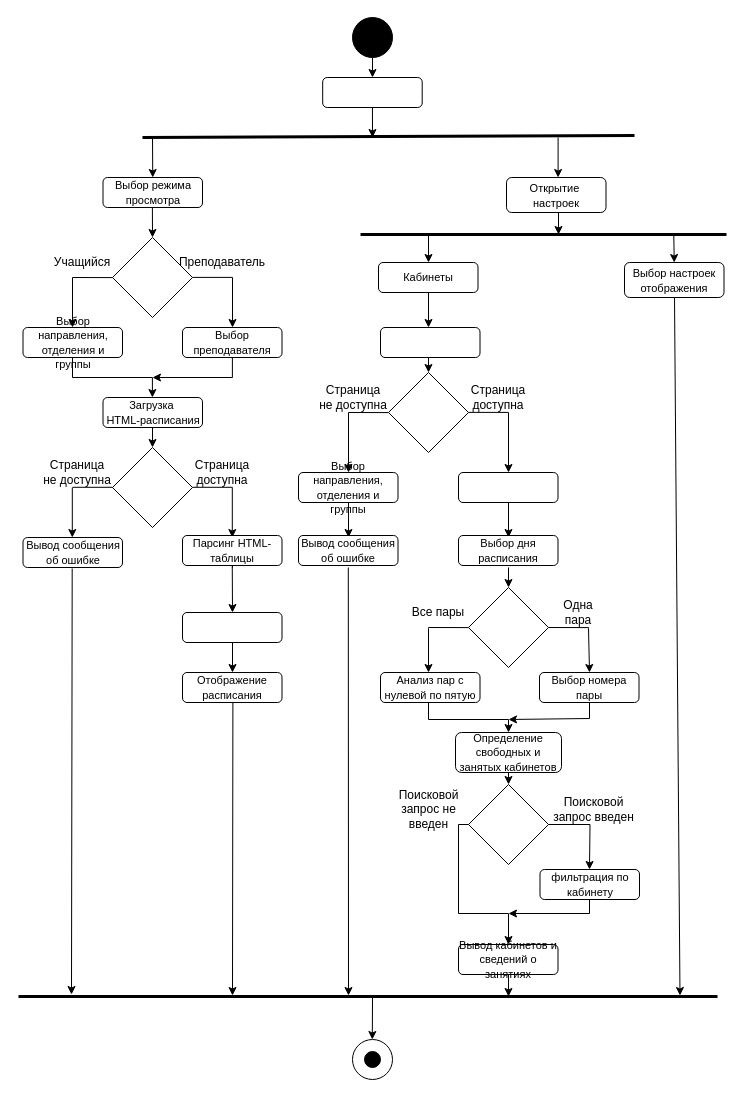
The diagram is 746 pixels wide and 1097 high, and some of its shapes have lost their labels. Each missing label, with the centre of its shape:
"Выбор раздела" belongs at point 372,92.
"Загрузка всех расписаний" belongs at point 430,342.
"Объединение занятий по дням" belongs at point 508,487.
"Фильтрация и сортировка" belongs at point 232,627.
